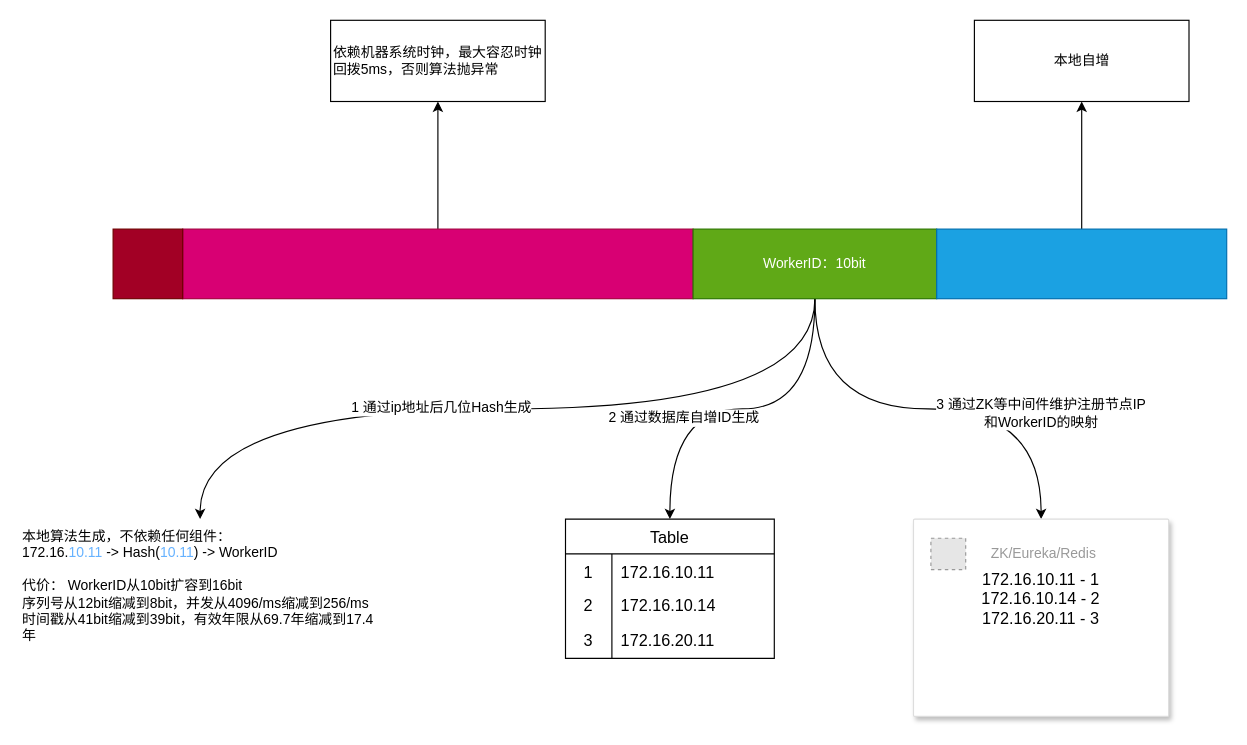
The diagram is 1247 pixels wide and 745 high, and some of its shapes have lost their labels. Grey dashed boxes stand in for pictures. Here are the shapes that lost their labels. From the top down, the centre of each, then its label:
At point (147, 263): "保留位 1bit".
At point (437, 263): "日期时间戳： 41 bit".
At point (1081, 263): "序列号：12bit".
